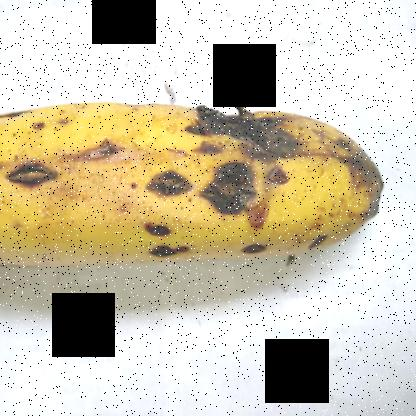rotten: (184, 86, 314, 171), (314, 106, 390, 236), (198, 148, 282, 236), (0, 119, 74, 202), (133, 196, 198, 257), (139, 163, 192, 211), (87, 126, 132, 174), (228, 230, 280, 270)
